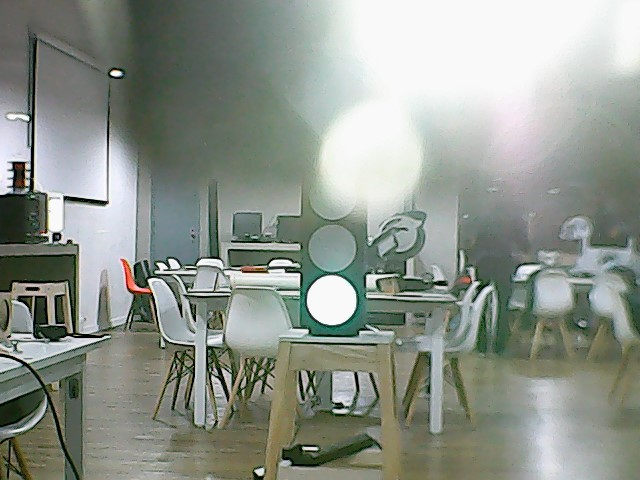verde: (296, 177, 374, 339)
